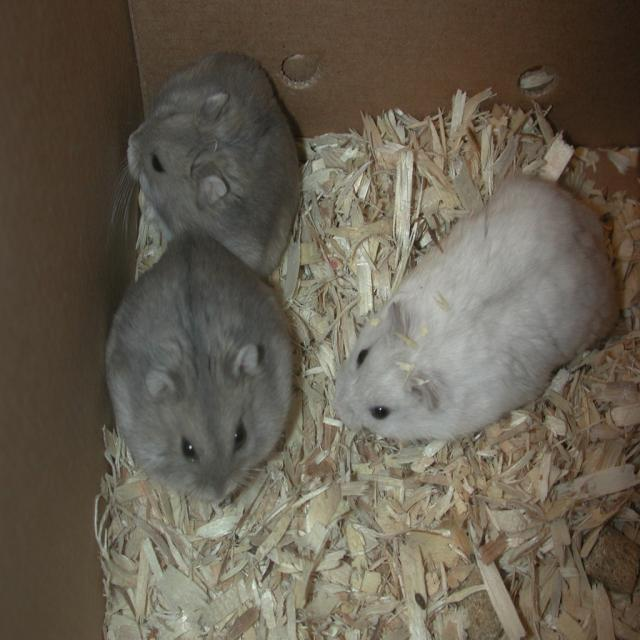rat: (332, 170, 624, 442), (104, 228, 296, 506), (106, 48, 304, 280)
